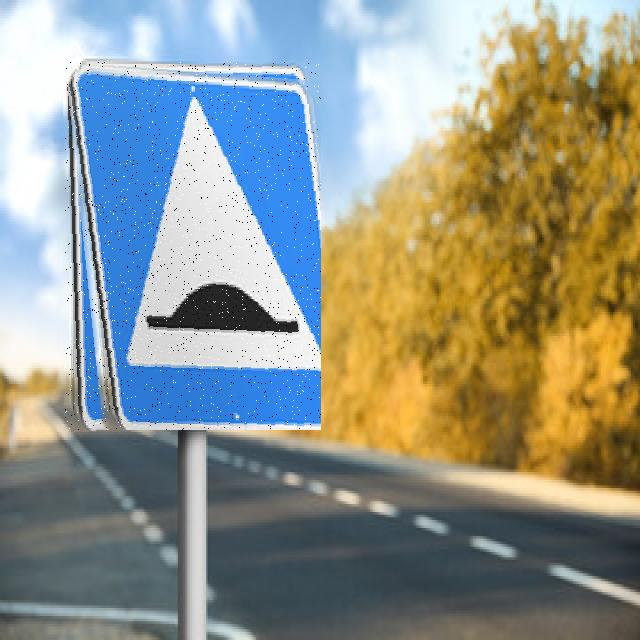hump: (65, 62, 321, 430)
